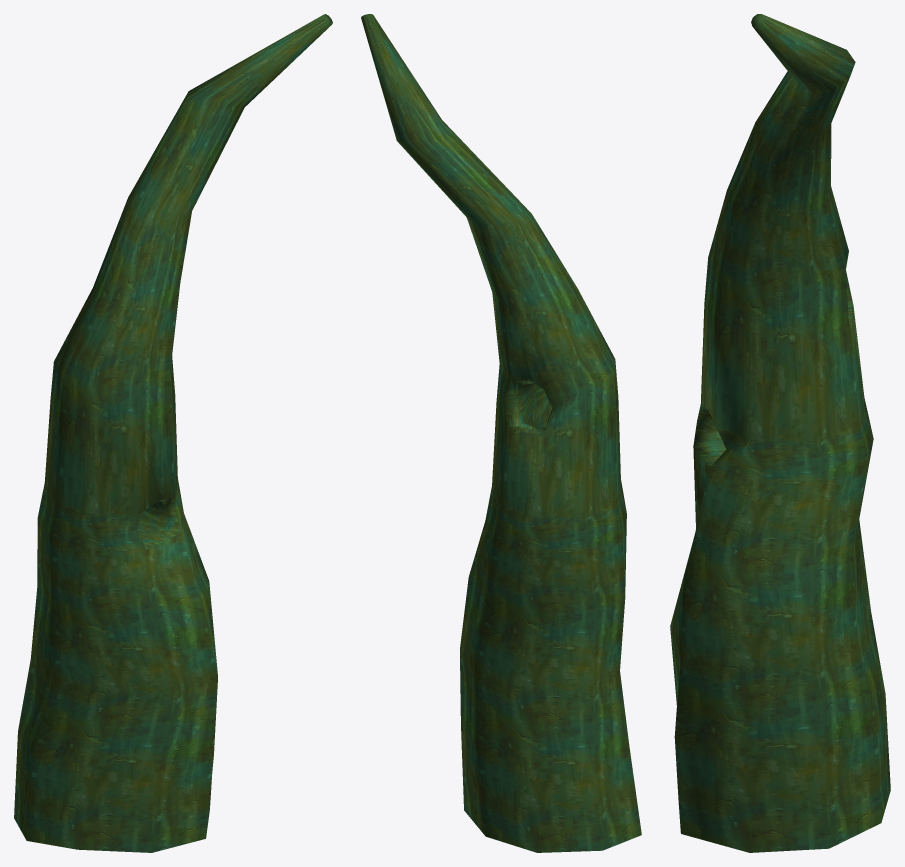
The model's file is MIRKWOOD_MIRK_PLAYSURFACE60.fbx.
3 renders of one model, left to right at view 1: azimuth 30°, elevation 25°; view 2: azimuth 150°, elevation 25°; view 3: azimuth 270°, elevation 25°, orthographic. The views are drawn at different scales.
Visible parts, largest first — view 1: MIRKWOOD_MIRK_PLAYSURFACE60; view 2: MIRKWOOD_MIRK_PLAYSURFACE60; view 3: MIRKWOOD_MIRK_PLAYSURFACE60.
Part boxes in pixels (box(x1,y1,x2,y2)): MIRKWOOD_MIRK_PLAYSURFACE60: box(14, 14, 332, 852); MIRKWOOD_MIRK_PLAYSURFACE60: box(361, 14, 641, 852); MIRKWOOD_MIRK_PLAYSURFACE60: box(670, 14, 890, 852).
Size of the model in its own units: 322695 by 794116 by 174942.
Materials: 1 (1 with a texture image).
